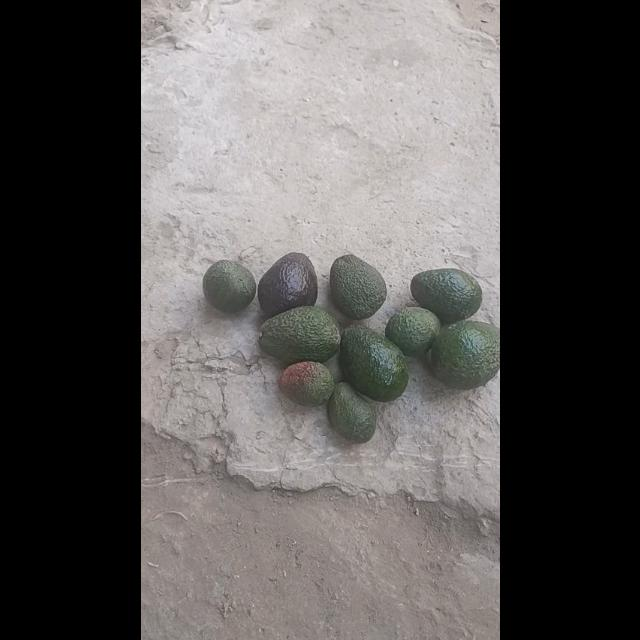Primera: (338, 325, 408, 401), (428, 320, 498, 388), (258, 306, 342, 362), (256, 252, 318, 316), (328, 253, 388, 319), (410, 268, 482, 322)
Segunda: (202, 260, 254, 312), (386, 306, 440, 356)
Tercera: (326, 381, 374, 443), (278, 359, 334, 407)
